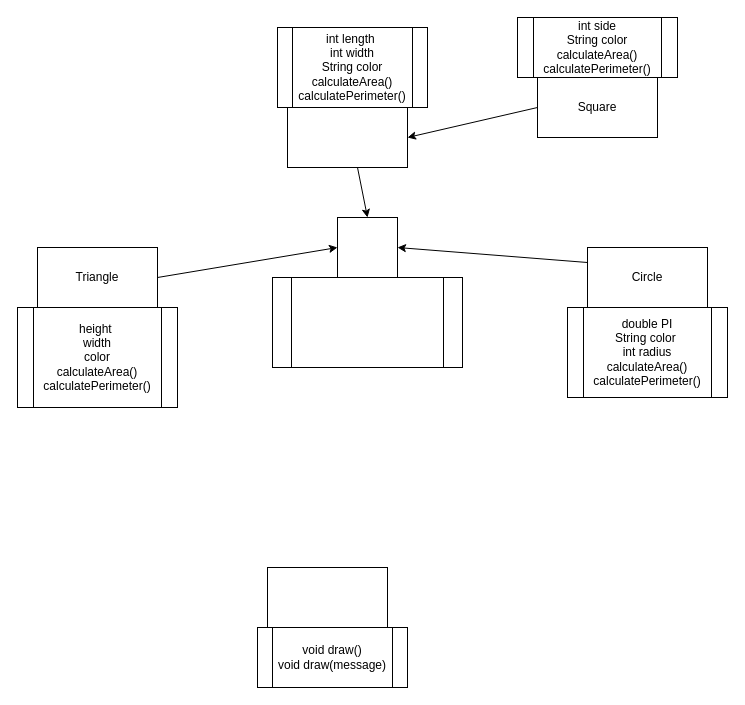
Some shapes in this 745 by 705 pixel diagram are drawn without their labels. The centre of each missing label's shape, as x and y in pixels:
"IShape" belongs at pixel 367 247.
"Rectangle" belongs at pixel 347 137.
"Renderer" belongs at pixel 327 597.
"Renderer renderer; double Area String colour double Perimeter String type" belongs at pixel 367 322.
